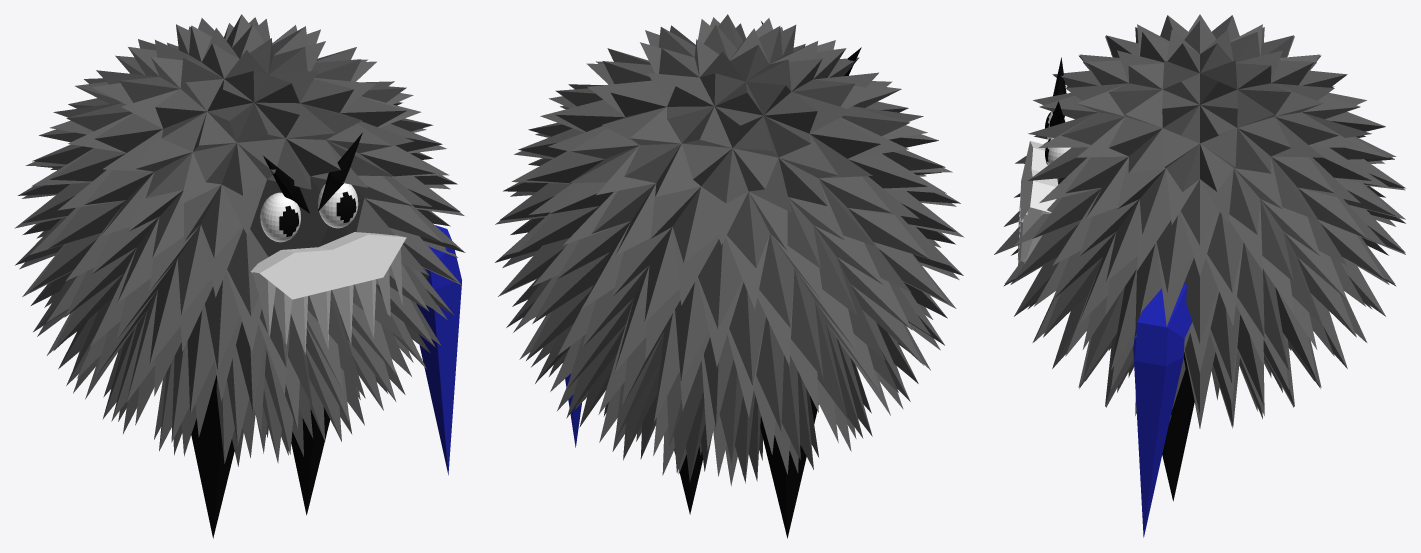
File: Old Prick.fbx
3 renders of one model, left to right at view 1: azimuth 30°, elevation 25°; view 2: azimuth 150°, elevation 25°; view 3: azimuth 270°, elevation 25°, orthographic. The views are drawn at different scales.
Visible parts, largest first — view 1: Icosphere, Cylinder, Cone.004, Cone.002, Cone.003, Sphere, Sphere.001, Cone.001, Cone; view 2: Icosphere, Cone.002, Cone.003; view 3: Icosphere, Cone.004, Cylinder, Cone.003.
Part boxes in pixels (bbox=[...]): Icosphere: bbox=[14, 14, 465, 466]; Cylinder: bbox=[250, 232, 406, 354]; Cone.004: bbox=[416, 225, 461, 475]; Cone.002: bbox=[191, 375, 234, 538]; Cone.003: bbox=[291, 407, 330, 515]; Sphere: bbox=[260, 192, 300, 242]; Sphere.001: bbox=[318, 183, 358, 228]; Cone.001: bbox=[318, 132, 362, 211]; Cone: bbox=[263, 156, 309, 213]; Icosphere: bbox=[495, 14, 964, 486]; Cone.002: bbox=[760, 395, 818, 538]; Cone.003: bbox=[674, 446, 702, 514]; Icosphere: bbox=[994, 14, 1405, 428]; Cone.004: bbox=[1133, 282, 1192, 537]; Cylinder: bbox=[1017, 141, 1058, 265]; Cone.003: bbox=[1162, 352, 1194, 501].
Size of the model in its own units: 499 by 591 by 497.
